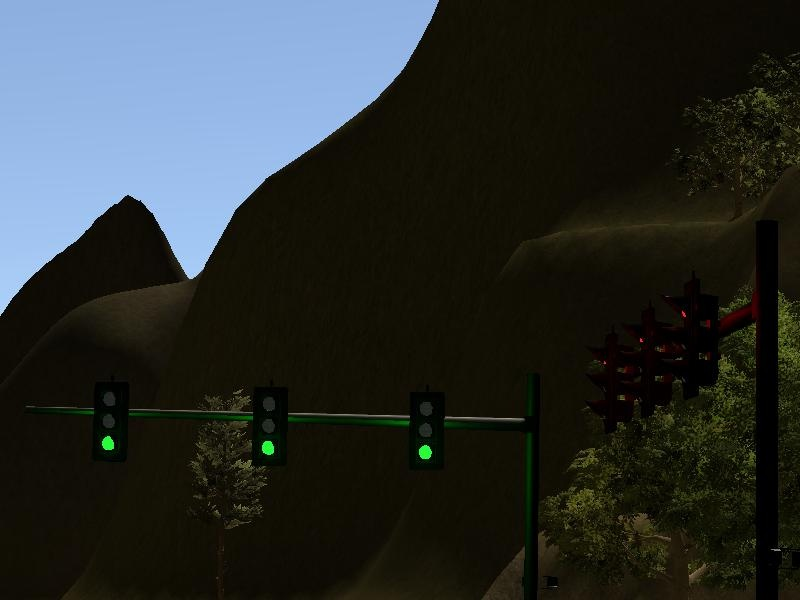Green: (251, 387, 287, 468), (92, 381, 128, 461), (408, 393, 445, 470)
